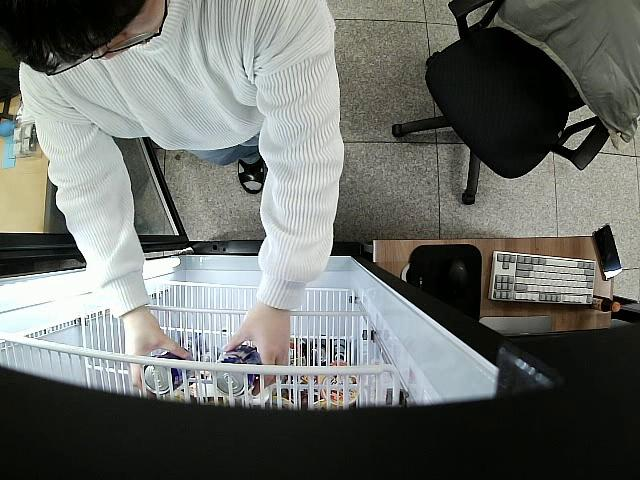00_hand: (225, 311, 291, 396), (122, 313, 191, 394)
14_welchsGrape: (213, 342, 261, 399), (144, 349, 189, 395)
